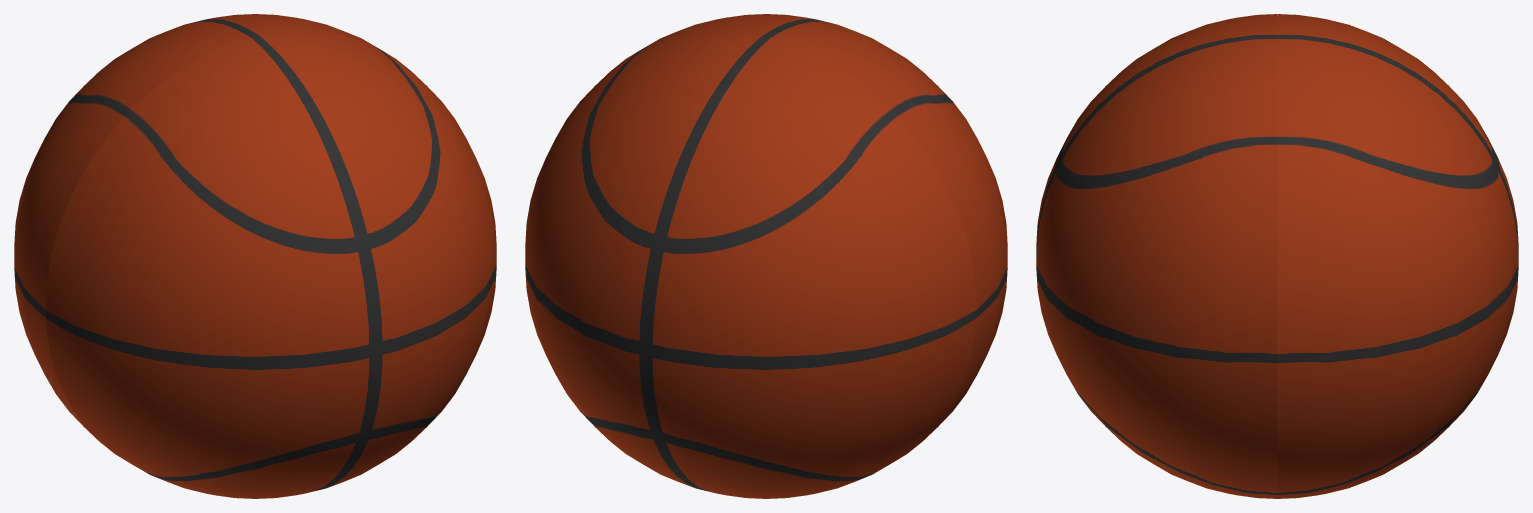
The model's file is Ball.fbx.
3 views of the same model, side by side, from view 1: azimuth 30°, elevation 25°; view 2: azimuth 150°, elevation 25°; view 3: azimuth 270°, elevation 25° (orthographic).
Visible parts, largest first — view 1: pSphere3; view 2: pSphere3; view 3: pSphere3.
Boxes of the visible parts, x1,y1,x2,y2 form: pSphere3: (14,14,496,498); pSphere3: (525,14,1007,498); pSphere3: (1036,14,1518,498).
Size of the model in its own units: 50 by 50 by 49.73.
1 material, 1 textured.
